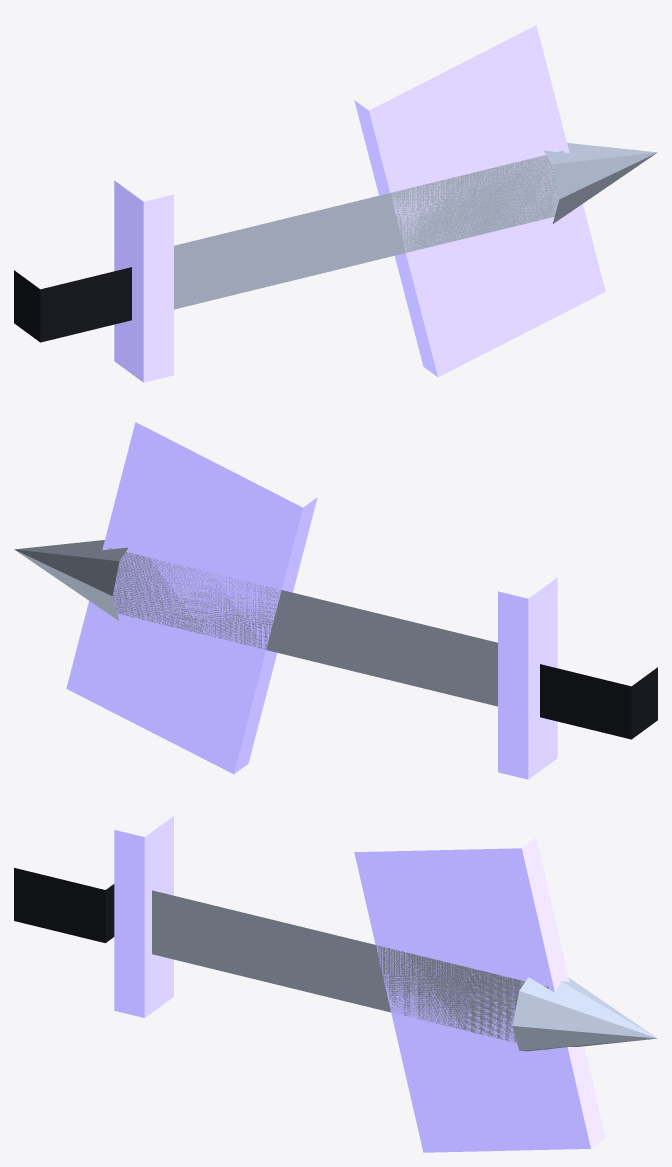
Rendered from luna.glb.
The picture shows the model from 3 angles, top to bottom: view 1: azimuth 30°, elevation 25°; view 2: azimuth 150°, elevation 25°; view 3: azimuth 330°, elevation 25°; orthographic projection.
Visible parts, largest first — view 1: luna-crescent, luna-blade, luna-guard, luna-grip, luna-tip; view 2: luna-crescent, luna-blade, luna-guard, luna-grip, luna-tip; view 3: luna-crescent, luna-blade, luna-guard, luna-tip, luna-grip.
Boxes of the visible parts, x1,y1,x2,y2 form: luna-crescent: [354, 25, 605, 377]; luna-blade: [174, 150, 563, 309]; luna-guard: [114, 180, 173, 382]; luna-grip: [14, 267, 131, 342]; luna-tip: [543, 143, 657, 223]; luna-crescent: [66, 422, 317, 774]; luna-blade: [108, 548, 497, 706]; luna-guard: [498, 577, 557, 779]; luna-grip: [540, 664, 657, 739]; luna-tip: [14, 540, 128, 620]; luna-crescent: [354, 837, 605, 1152]; luna-blade: [152, 890, 548, 1049]; luna-guard: [114, 816, 173, 1017]; luna-tip: [512, 977, 657, 1051]; luna-grip: [14, 868, 114, 943].
Bounding box in the file's own units: 1.24 × 0.617 × 0.16.
